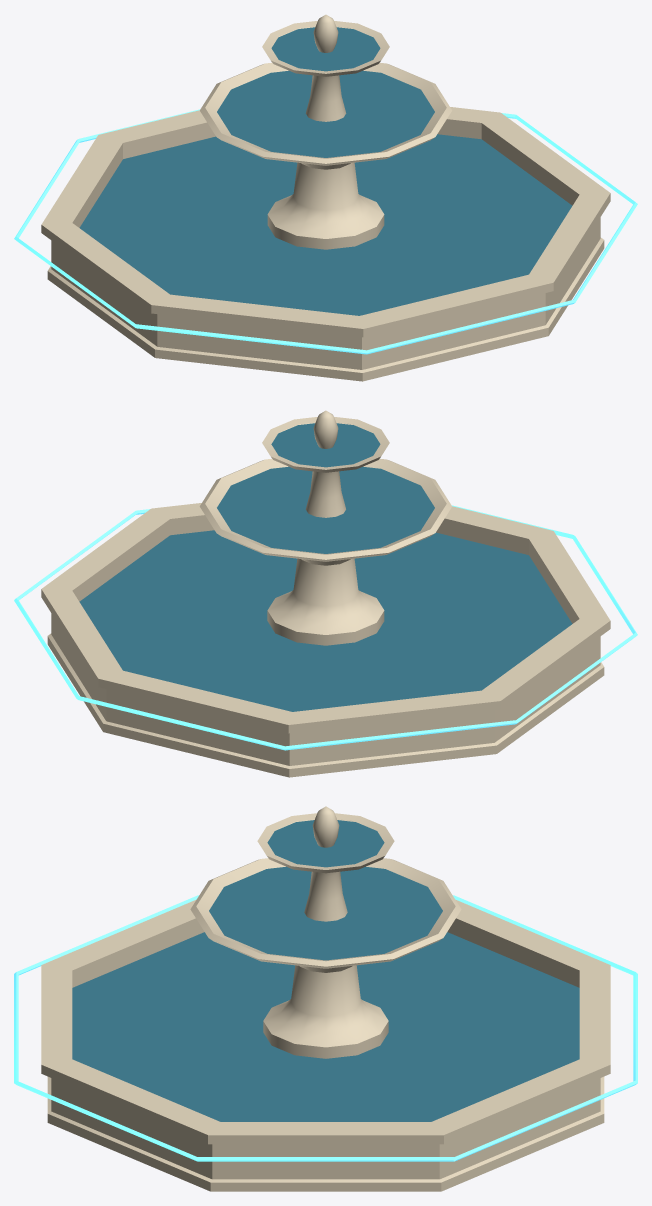
The picture shows the model from 3 angles, top to bottom: view 1: azimuth 30°, elevation 25°; view 2: azimuth 150°, elevation 25°; view 3: azimuth 270°, elevation 25°; orthographic projection. The views are drawn at different scales.
Visible parts, largest first — view 1: fountain.lod1; view 2: fountain.lod1; view 3: fountain.lod1.
Boxes of the visible parts, box(x1,y1,x2,y2) form: fountain.lod1: box(14, 14, 637, 381); fountain.lod1: box(14, 410, 637, 777); fountain.lod1: box(14, 806, 637, 1191).
Size of the model in its own units: 7.46 by 3.53 by 7.45.
